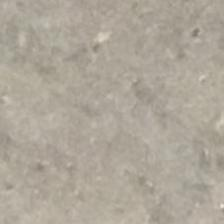Non_Crack: (24, 65, 212, 224)
